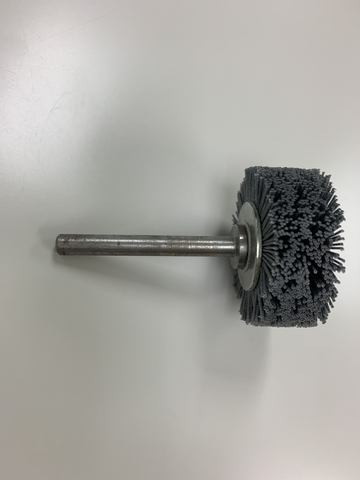Wheel Brush: (52, 165, 341, 330), (61, 169, 328, 334)
